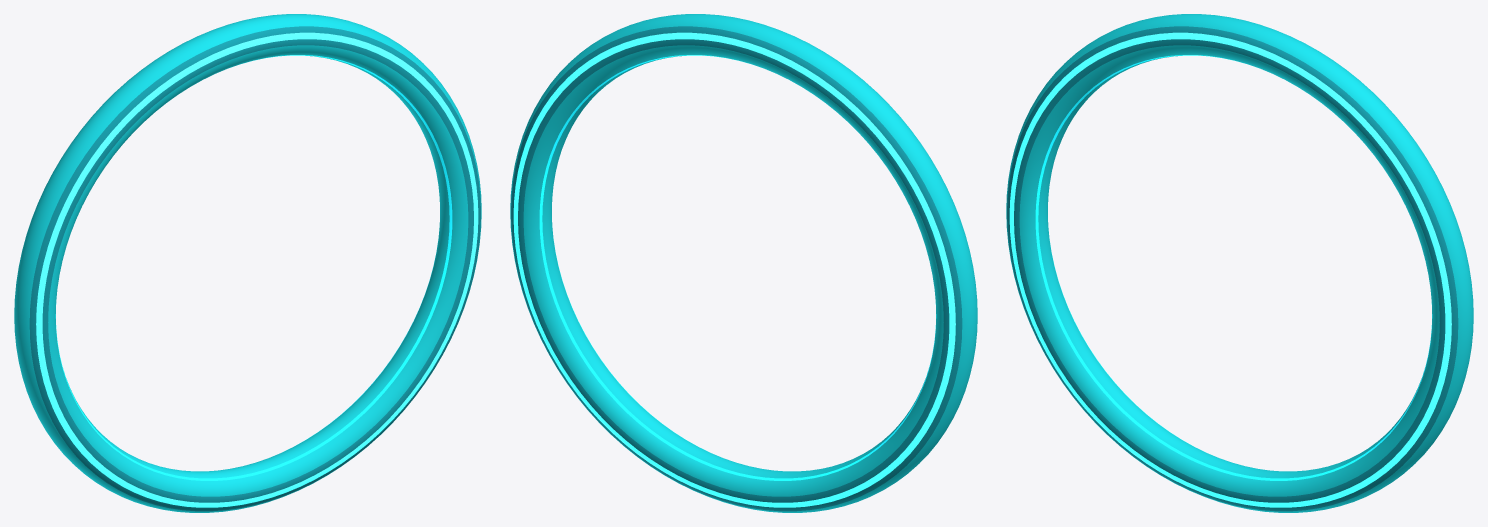
File: wsc-prop-043-riding-ring.glb
3 renders of one model, left to right at view 1: azimuth 30°, elevation 25°; view 2: azimuth 150°, elevation 25°; view 3: azimuth 330°, elevation 25°, orthographic.
Parts seen in each view (by area): view 1: Anodized turquoise shell; view 2: Anodized turquoise shell; view 3: Anodized turquoise shell.
Boxes of the visible parts, x1,y1,x2,y2 form: Anodized turquoise shell: (14,14,481,512); Anodized turquoise shell: (510,14,977,512); Anodized turquoise shell: (1006,14,1473,512).
Size of the model in its own units: 3.12 by 3.12 by 0.244.
